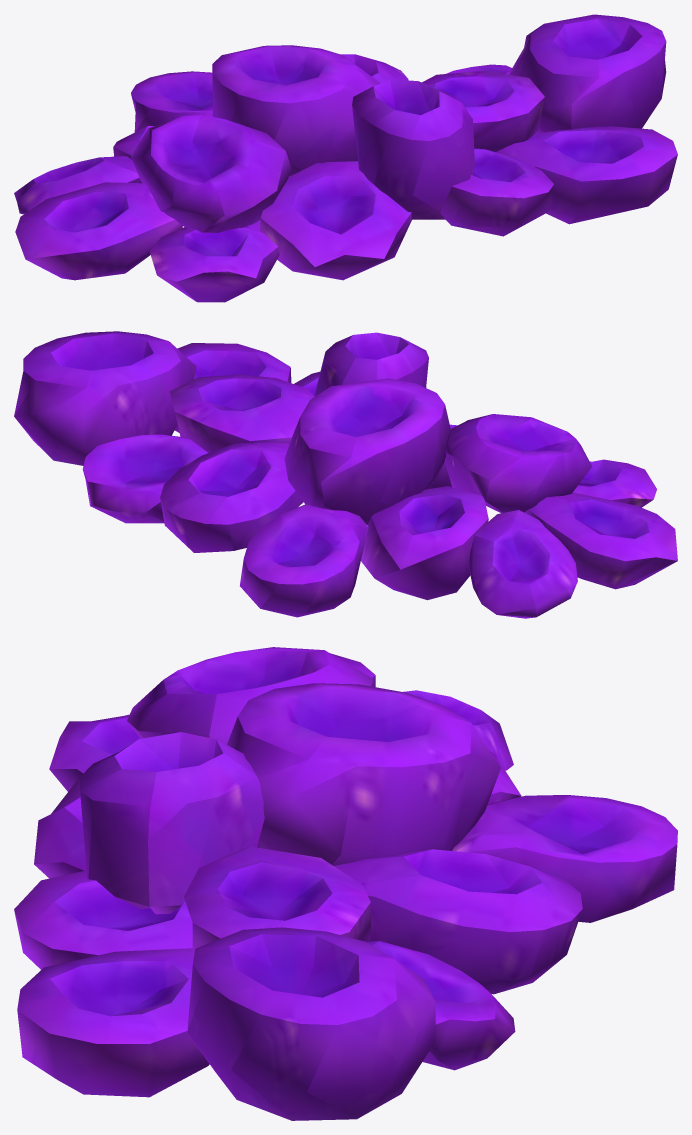
The model's file is coral-8UNN578byC0.glb.
The picture shows the model from 3 angles, top to bottom: view 1: azimuth 30°, elevation 25°; view 2: azimuth 150°, elevation 25°; view 3: azimuth 270°, elevation 25°; orthographic projection. The views are drawn at different scales.
Visible parts, largest first — view 1: node_id73; view 2: node_id73; view 3: node_id73.
Boxes of the visible parts, box(x1,y1,x2,y2) form: node_id73: box(14, 14, 677, 302); node_id73: box(14, 331, 677, 618); node_id73: box(14, 647, 677, 1120).
Size of the model in its own units: 5.58 by 1.2 by 3.45.
Materials: 1 (1 with a texture image).
